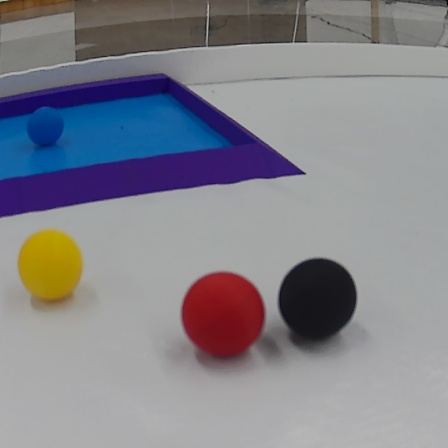black: (279, 256, 359, 339)
blue: (24, 108, 67, 149)
blue_aim: (0, 70, 307, 218)
red: (174, 270, 264, 362)
yellow: (15, 229, 83, 302)
